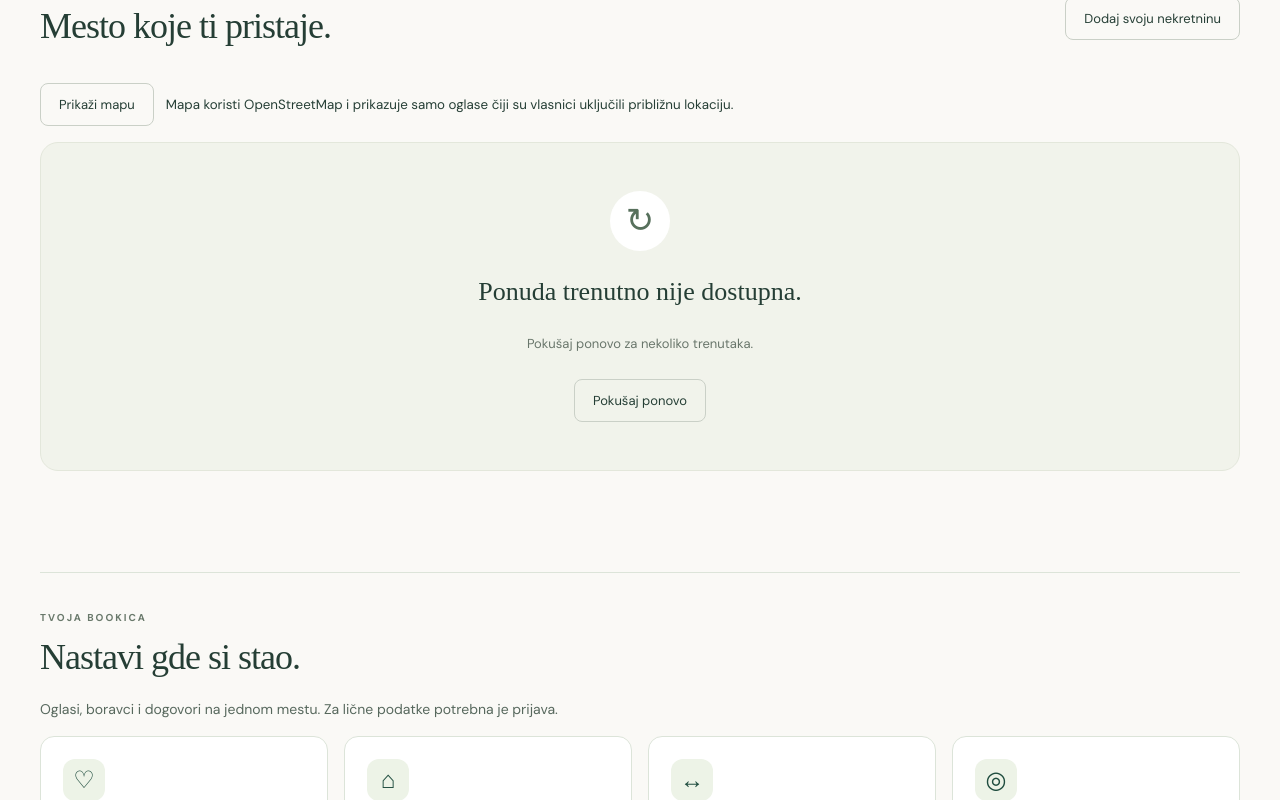
distinguishes unavailable API from empty results and can retry
(page scrolled)
Check: the message shows "Ponuda trenutno nije dostupna", box x1=478 y1=277 x2=802 y2=306
Check: the text "Nema oglasa za ovaj izbor." is not shown
Click the button "Pokušaj ponovo".
click(640, 401)  # box x1=574 y1=379 x2=706 y2=422
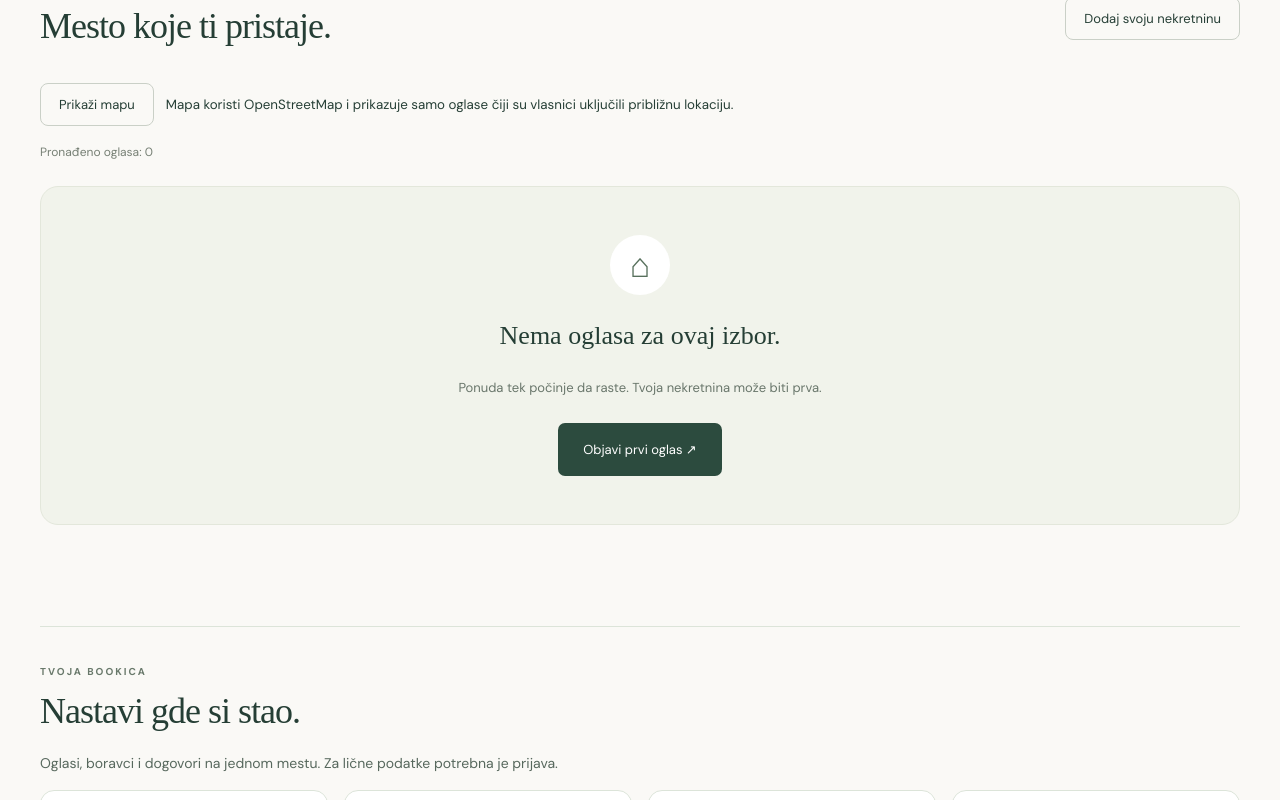
Check: the heading "Nema oglasa za ovaj izbor." is shown, box x1=500 y1=321 x2=780 y2=350
